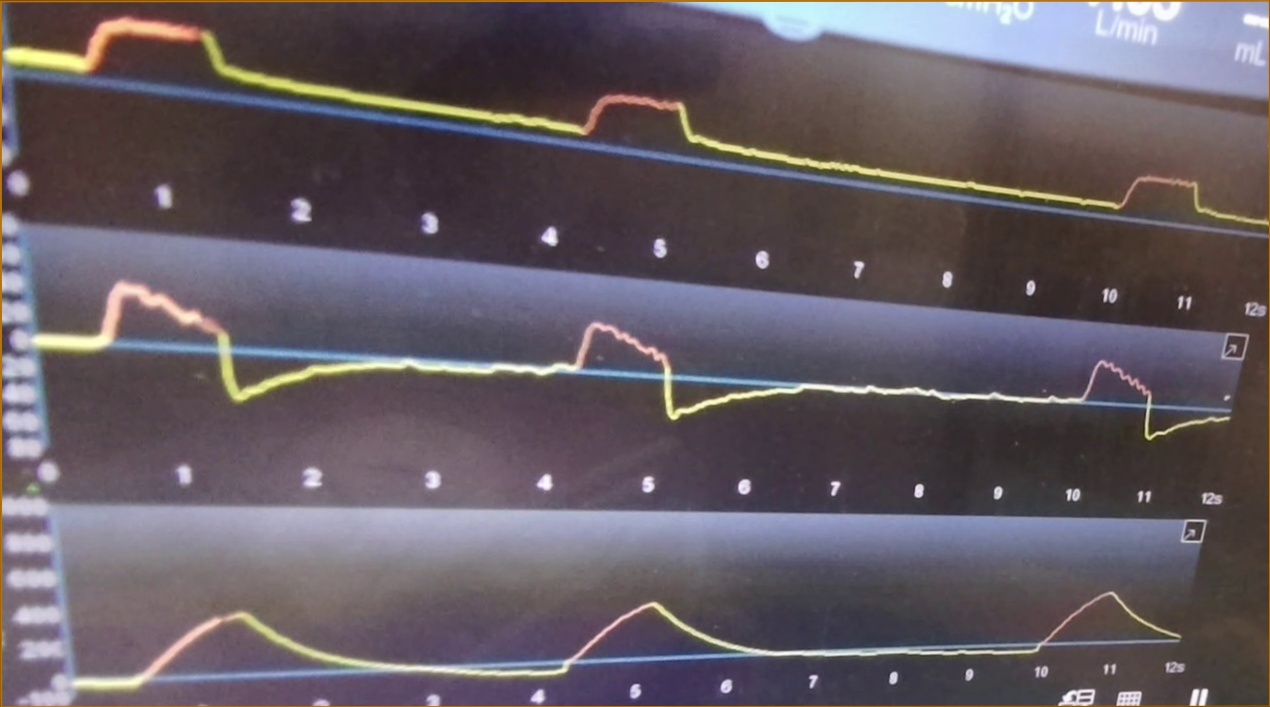Accumulation Flow: (37, 274, 1228, 446)
Volume: (73, 554, 1186, 696)
